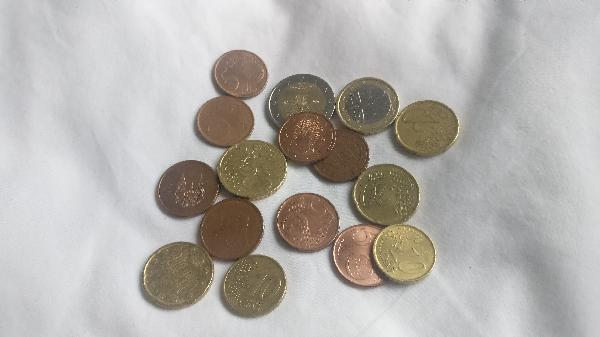Fifty Cent: (216, 141, 291, 194)
Five Cent: (203, 197, 266, 258), (336, 223, 393, 290), (272, 112, 341, 166), (278, 194, 340, 254), (156, 161, 221, 215), (198, 95, 261, 149), (211, 49, 271, 98), (320, 126, 368, 186)
One Euro: (337, 81, 398, 134)
Ten Cent: (222, 254, 287, 320), (371, 224, 440, 286)
Twenty Cent: (138, 244, 215, 310), (355, 162, 421, 223), (395, 101, 463, 158)
Two Euro: (269, 74, 339, 125)
